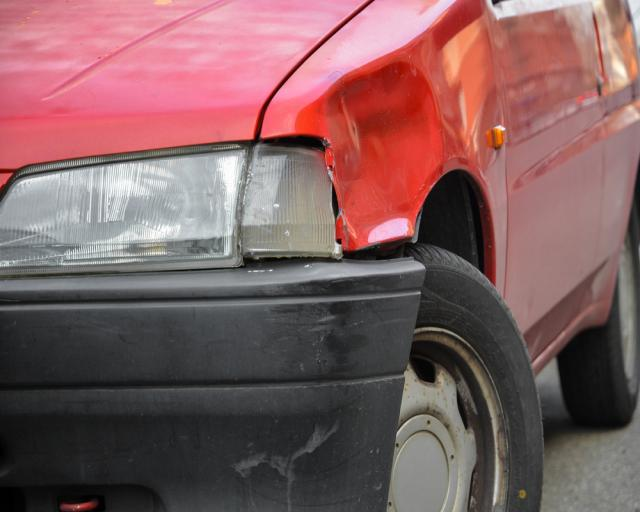dent: (325, 61, 442, 248)
